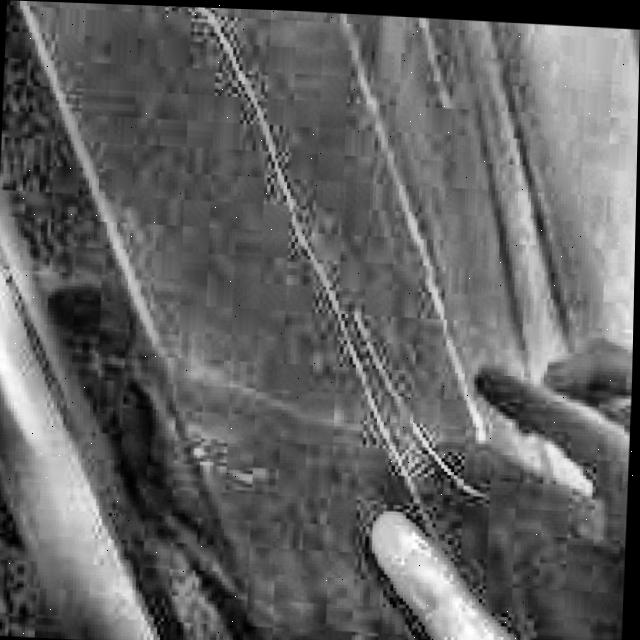door_scratch: (333, 292, 502, 520), (127, 5, 312, 179)
